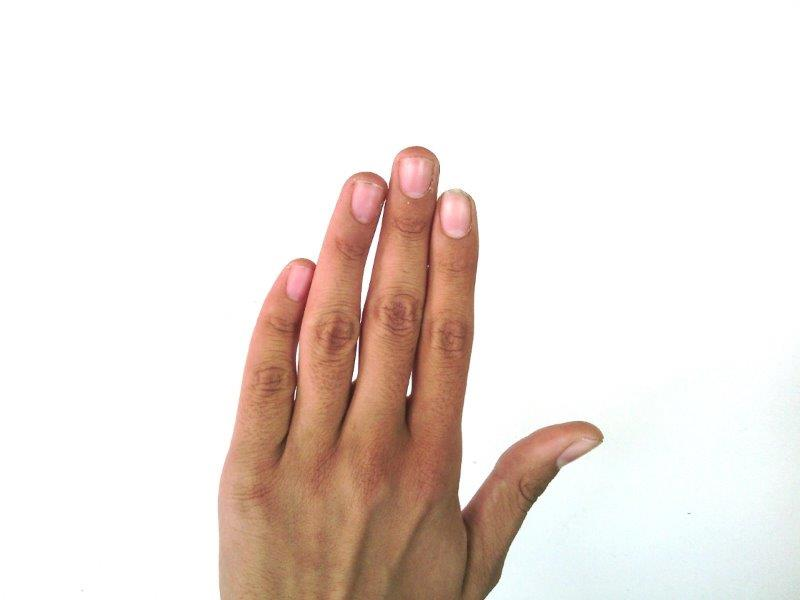hand: (216, 149, 604, 600)
